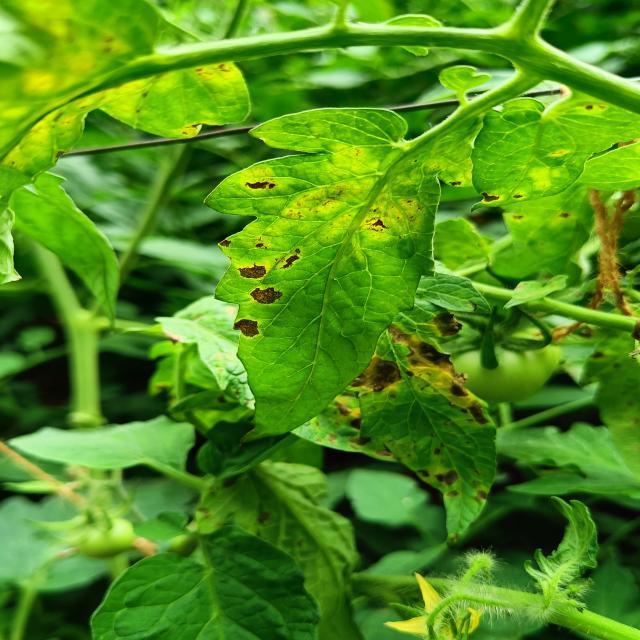Tomato mosaic virus leaf: (201, 148, 443, 346), (348, 323, 502, 549), (466, 93, 610, 219)
